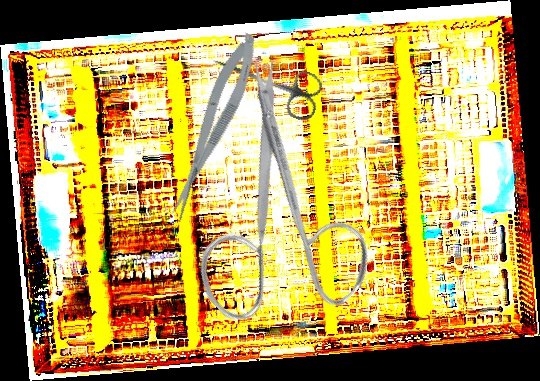Iris Scissors: (110, 49, 430, 370), (204, 40, 327, 124)
Micro Scissor: (156, 29, 268, 225)
